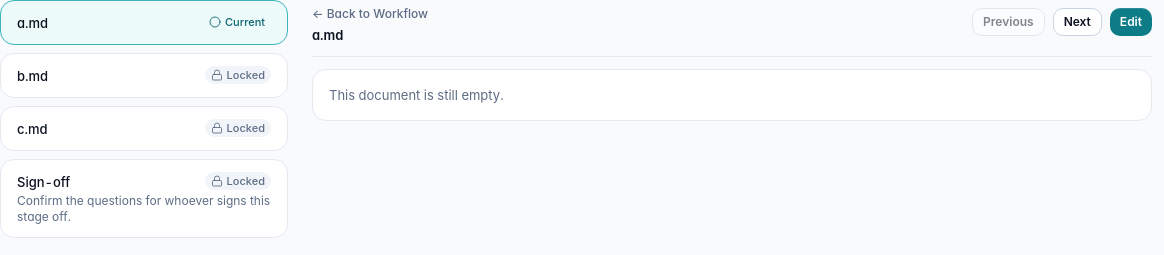
Test: WorkflowTab — spec 0018: Previous/Next move between documents without leaving the Workflow tab › Previous is disabled on the first required document; Next is disabled on the last
This screenshot has width=1164, height=255.
Expected: the button "Previous" is disabled, x1=972 y1=8 x2=1045 y2=36
What coordinates should you click on to do the following:
click the button "Next"
I would click on:
 (1077, 22)
Its box is x1=1053 y1=8 x2=1102 y2=36.
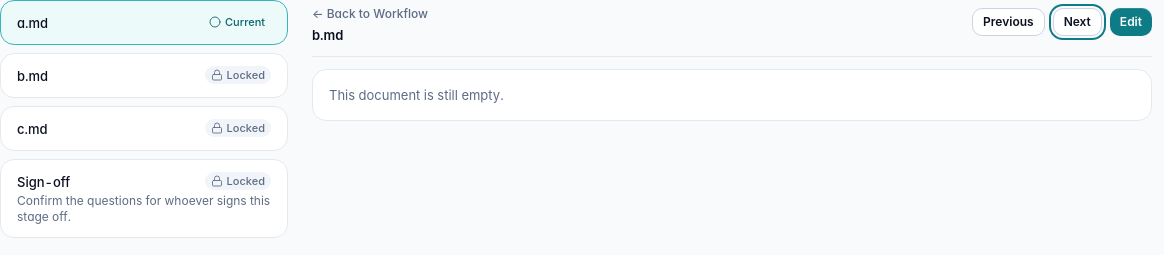
What coordinates should you click on to do the following:
click the button "Next"
I would click on:
 (1077, 22)
Its box is x1=1053 y1=8 x2=1102 y2=36.
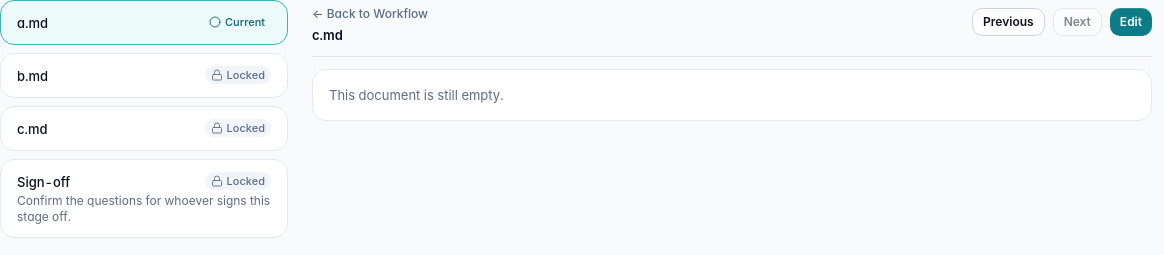
Now the button "Previous" is enabled, box x1=972 y1=8 x2=1045 y2=36
Now the heading "c.md" is shown, box x1=312 y1=27 x2=343 y2=43
Now the button "Next" is disabled, box x1=1053 y1=8 x2=1102 y2=36
